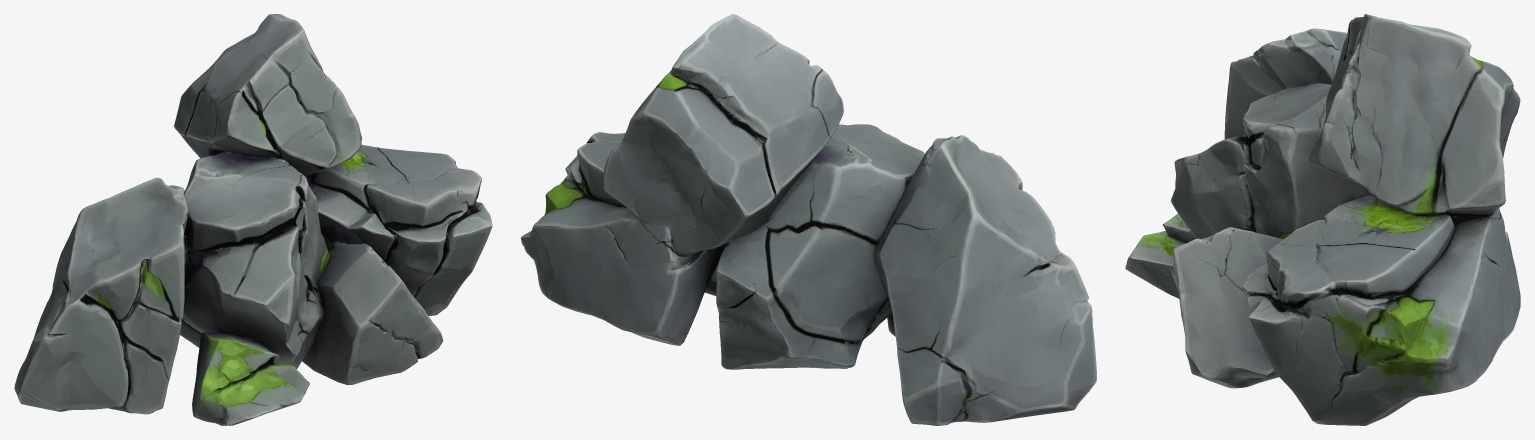
3 views of the same model, side by side, from view 1: azimuth 30°, elevation 25°; view 2: azimuth 150°, elevation 25°; view 3: azimuth 270°, elevation 25° (orthographic). The views are drawn at different scales.
Size of the model in its own units: 1.9 by 1.15 by 1.2.
Materials: 1 (1 with a texture image).
